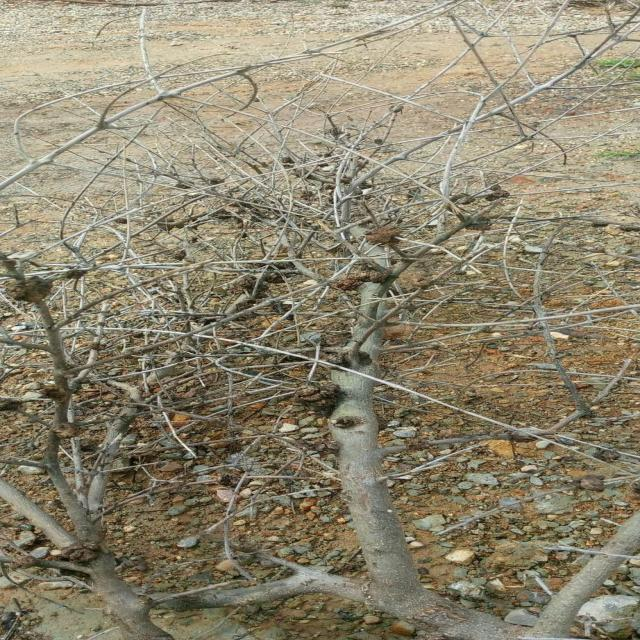Tuberculosis: (289, 382, 364, 429), (332, 261, 391, 292), (321, 347, 373, 371), (7, 277, 52, 304), (59, 542, 104, 566), (364, 227, 402, 248), (12, 548, 48, 568), (46, 421, 82, 439), (38, 384, 70, 402), (463, 214, 494, 232), (481, 184, 510, 203), (59, 269, 90, 280), (450, 193, 475, 205), (590, 219, 621, 228), (618, 224, 639, 232)
